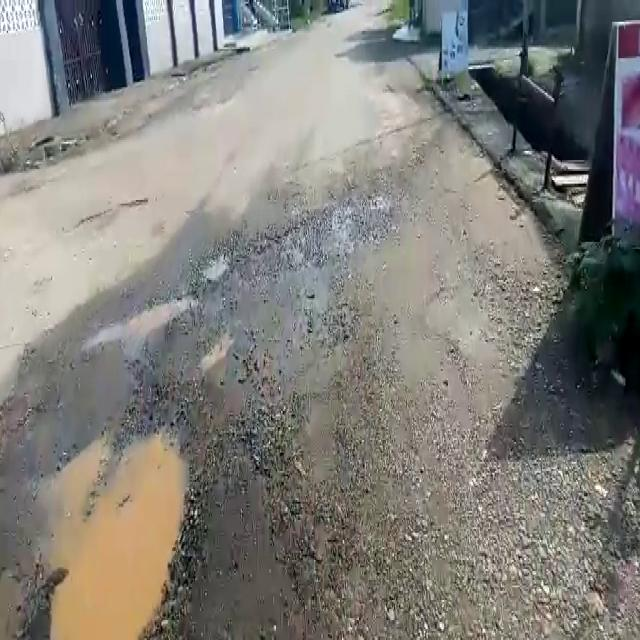Pothole: (34, 421, 190, 640)
